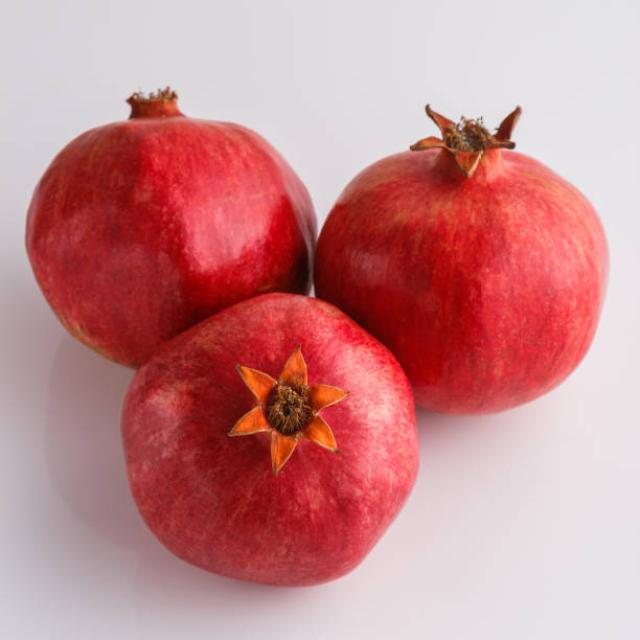Ripe: (120, 291, 427, 591), (321, 96, 608, 413), (21, 89, 321, 294)
